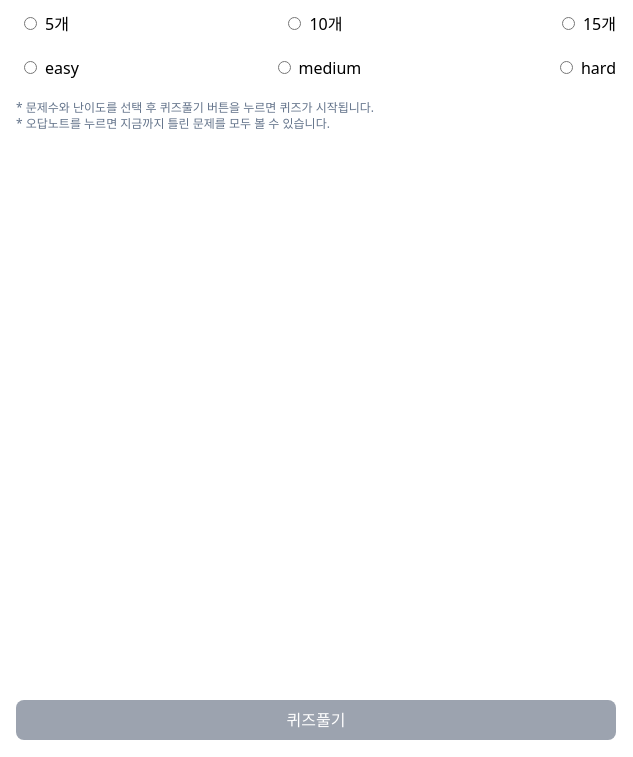
Test: 홈 컴포넌트 테스트 › 퀴즈 조건 선택 후 퀴즈 시작버튼 활성화
Click the radio button labelled "5개".
click(30, 24)  # box top-left (24, 17), bottom-right (37, 30)
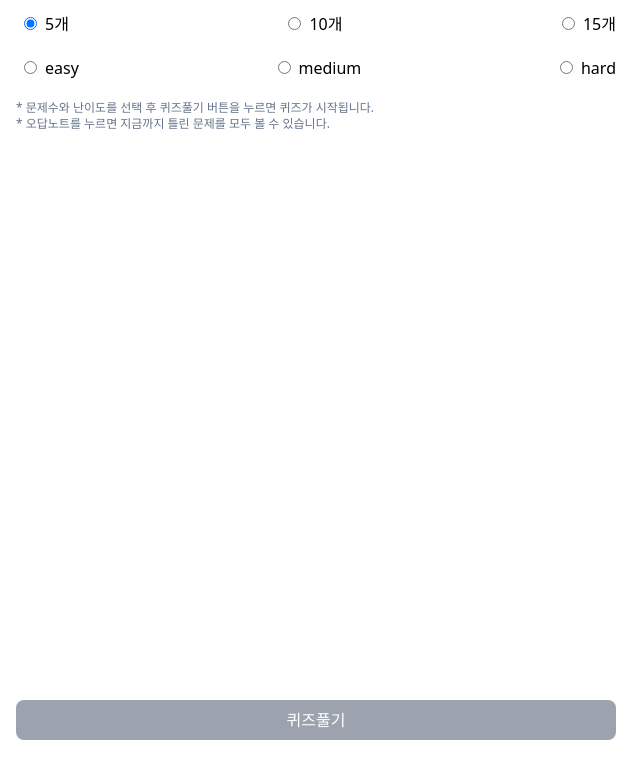
Click the radio button labelled "medium".
click(284, 68)  # box top-left (278, 61), bottom-right (290, 74)
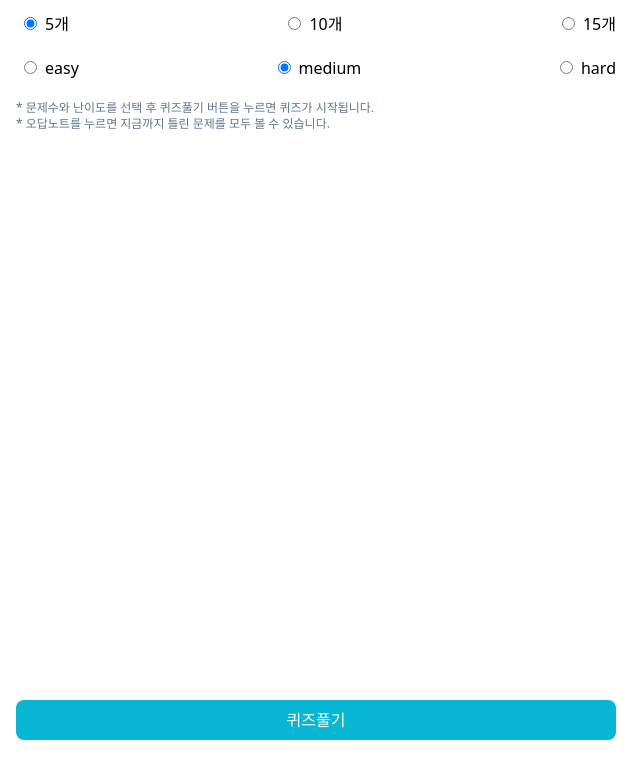
Expected: the button "퀴즈풀기" is enabled, top-left (16, 700), bottom-right (616, 740)
